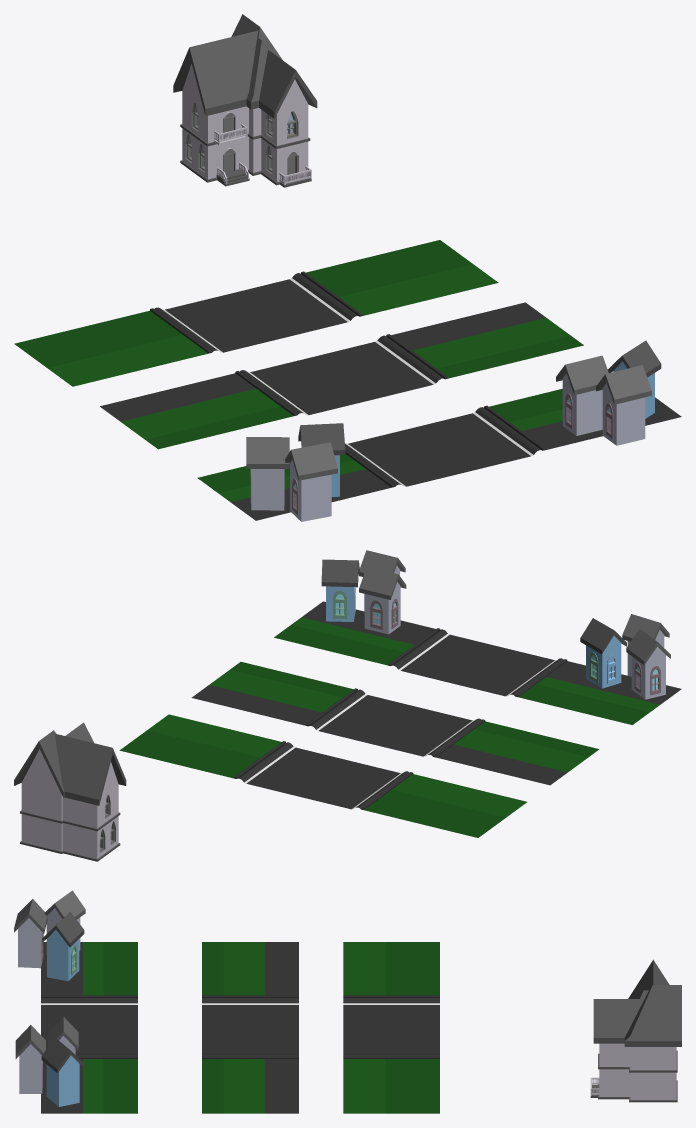
File: casesidrumuri3.fbx
3 views of the same model, one above another, from view 1: azimuth 30°, elevation 25°; view 2: azimuth 150°, elevation 25°; view 3: azimuth 270°, elevation 25° (orthographic). The views are drawn at different scales.
Visible parts, largest first — view 1: Stradatyle1.001, Stradatyle1.002, building_021.001, Stradatyle1.003, Cube.007, Cube.010, Cube.005, Cube.008, Cube.009, Cube.006; view 2: Stradatyle1.002, Stradatyle1.001, Stradatyle1.003, building_021.001, Cube.005, Cube.009, Cube.008, Cube.006, Cube.010, Cube.007; view 3: Stradatyle1.001, Stradatyle1.002, Stradatyle1.003, building_021.001, Cube.006, Cube.009, Cube.010, Cube.007, Cube.008, Cube.005.
Boxes of the visible parts, <box> form: Stradatyle1.001: <box>14,240,498,386</box>; Stradatyle1.002: <box>100,302,583,449</box>; building_021.001: <box>173,14,317,187</box>; Stradatyle1.003: <box>197,389,681,520</box>; Cube.007: <box>596,365,651,445</box>; Cube.010: <box>285,442,337,521</box>; Cube.005: <box>556,355,608,435</box>; Cube.008: <box>246,437,289,510</box>; Cube.009: <box>298,423,345,496</box>; Cube.006: <box>607,340,661,418</box>; Stradatyle1.002: <box>191,662,599,785</box>; Stradatyle1.001: <box>119,714,526,837</box>; Stradatyle1.003: <box>274,601,681,724</box>; building_021.001: <box>14,722,126,861</box>; Cube.005: <box>359,566,406,634</box>; Cube.009: <box>580,618,626,688</box>; Cube.008: <box>626,629,670,699</box>; Cube.006: <box>321,559,359,621</box>; Cube.010: <box>622,614,669,676</box>; Cube.007: <box>358,550,405,611</box>; Stradatyle1.001: <box>343,942,439,1113</box>; Stradatyle1.002: <box>202,942,298,1113</box>; Stradatyle1.003: <box>41,942,137,1113</box>; building_021.001: <box>590,959,681,1102</box>; Cube.006: <box>41,1037,84,1106</box>; Cube.009: <box>42,911,84,981</box>; Cube.010: <box>14,899,47,968</box>; Cube.007: <box>15,1025,45,1093</box>; Cube.008: <box>44,890,85,954</box>; Cube.005: <box>48,1016,78,1054</box>.
Bounding box in the file's own units: 34.88 × 10.45 × 57.4.
